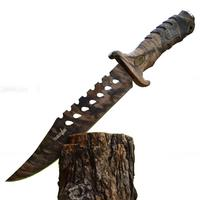knife: (3, 13, 188, 185)
